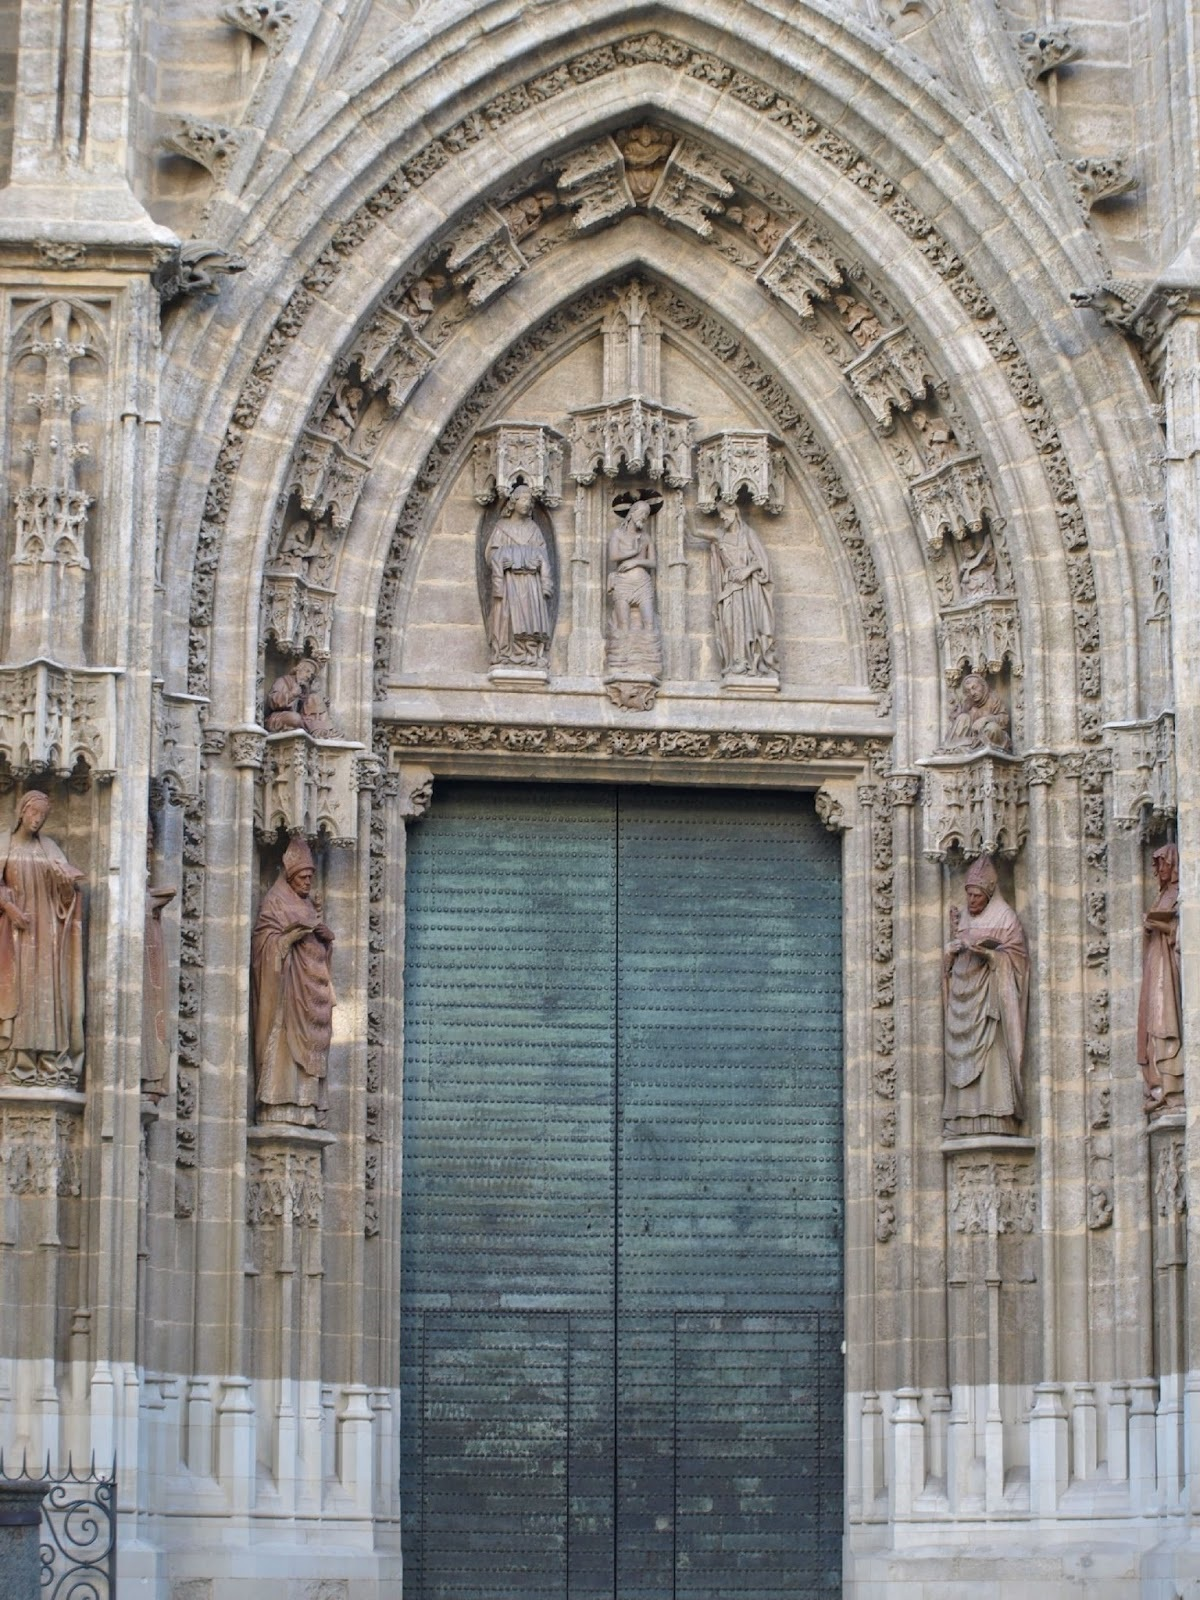arco-apuntado: (200, 1, 1109, 689)
